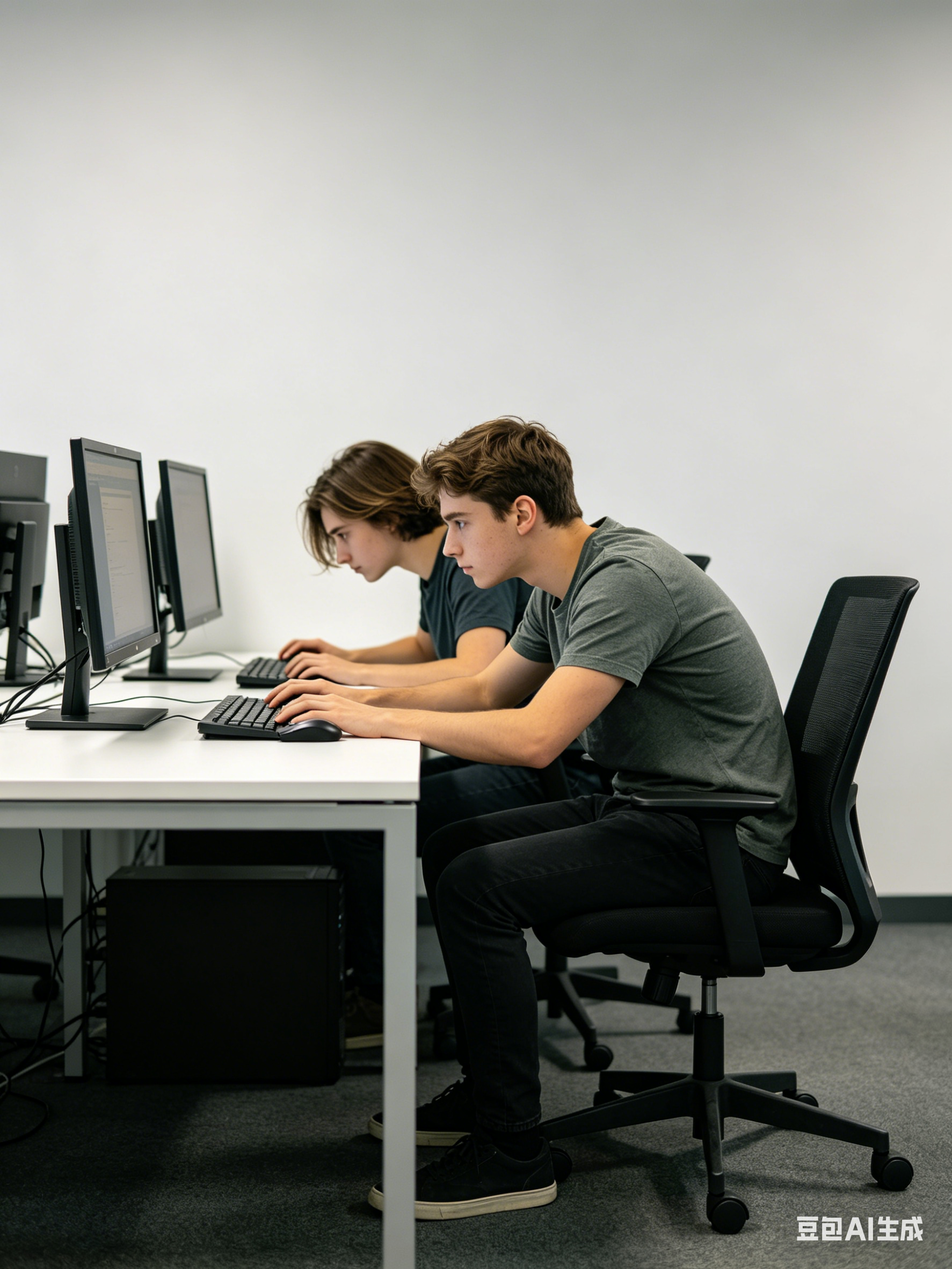sitting_bad: (415, 400, 827, 992), (259, 421, 545, 708)
